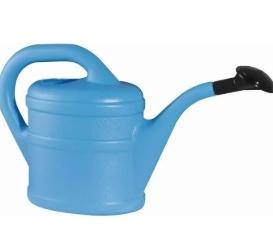ARROSOIR: (1, 7, 273, 222)
